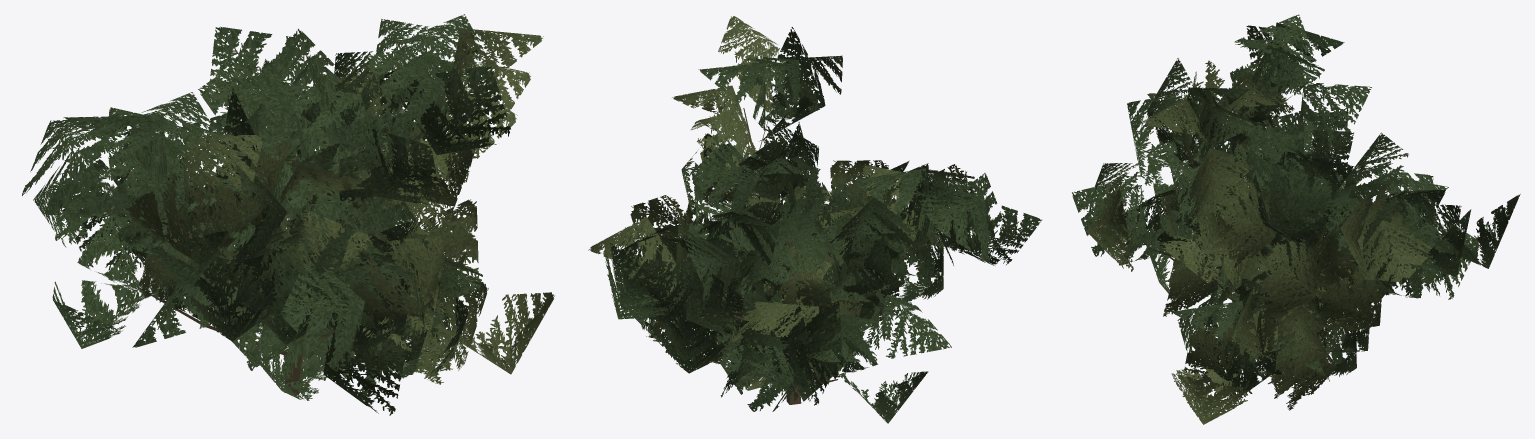
Rendered from SM_CN_Juniper_B_LOD2.fbx.
3 views of the same model, side by side, from view 1: azimuth 30°, elevation 25°; view 2: azimuth 150°, elevation 25°; view 3: azimuth 270°, elevation 25° (orthographic). The views are drawn at different scales.
Visible parts, largest first — view 1: SM_CN_Juniper_B_LOD2; view 2: SM_CN_Juniper_B_LOD2; view 3: SM_CN_Juniper_B_LOD2.
Boxes of the visible parts, box(x1,y1,x2,y2) form: SM_CN_Juniper_B_LOD2: box(22, 14, 554, 415); SM_CN_Juniper_B_LOD2: box(588, 16, 1041, 423); SM_CN_Juniper_B_LOD2: box(1072, 14, 1520, 424).
Size of the model in its own units: 3.5 by 3.37 by 2.65.
